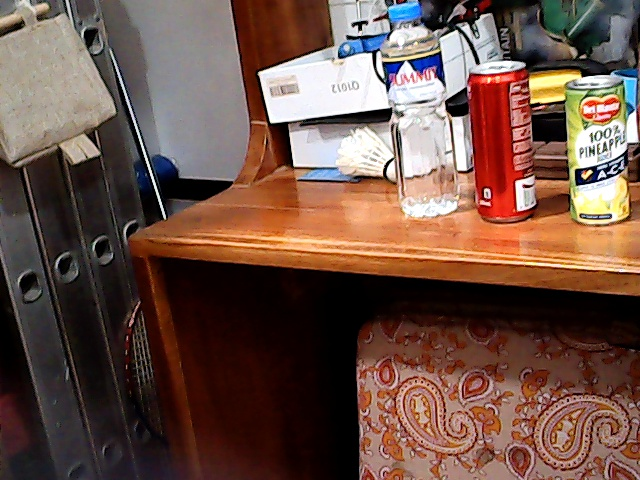Cola: (462, 58, 543, 222)
Pine Juice: (559, 71, 630, 229)
Summit Water: (381, 11, 459, 214)
